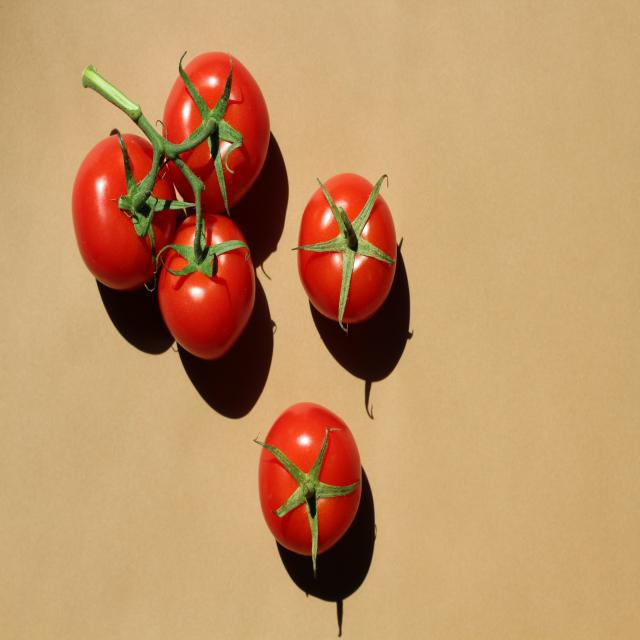Tomato: (248, 404, 371, 574), (71, 127, 182, 297), (300, 170, 398, 332), (172, 44, 270, 206), (159, 216, 256, 351)
